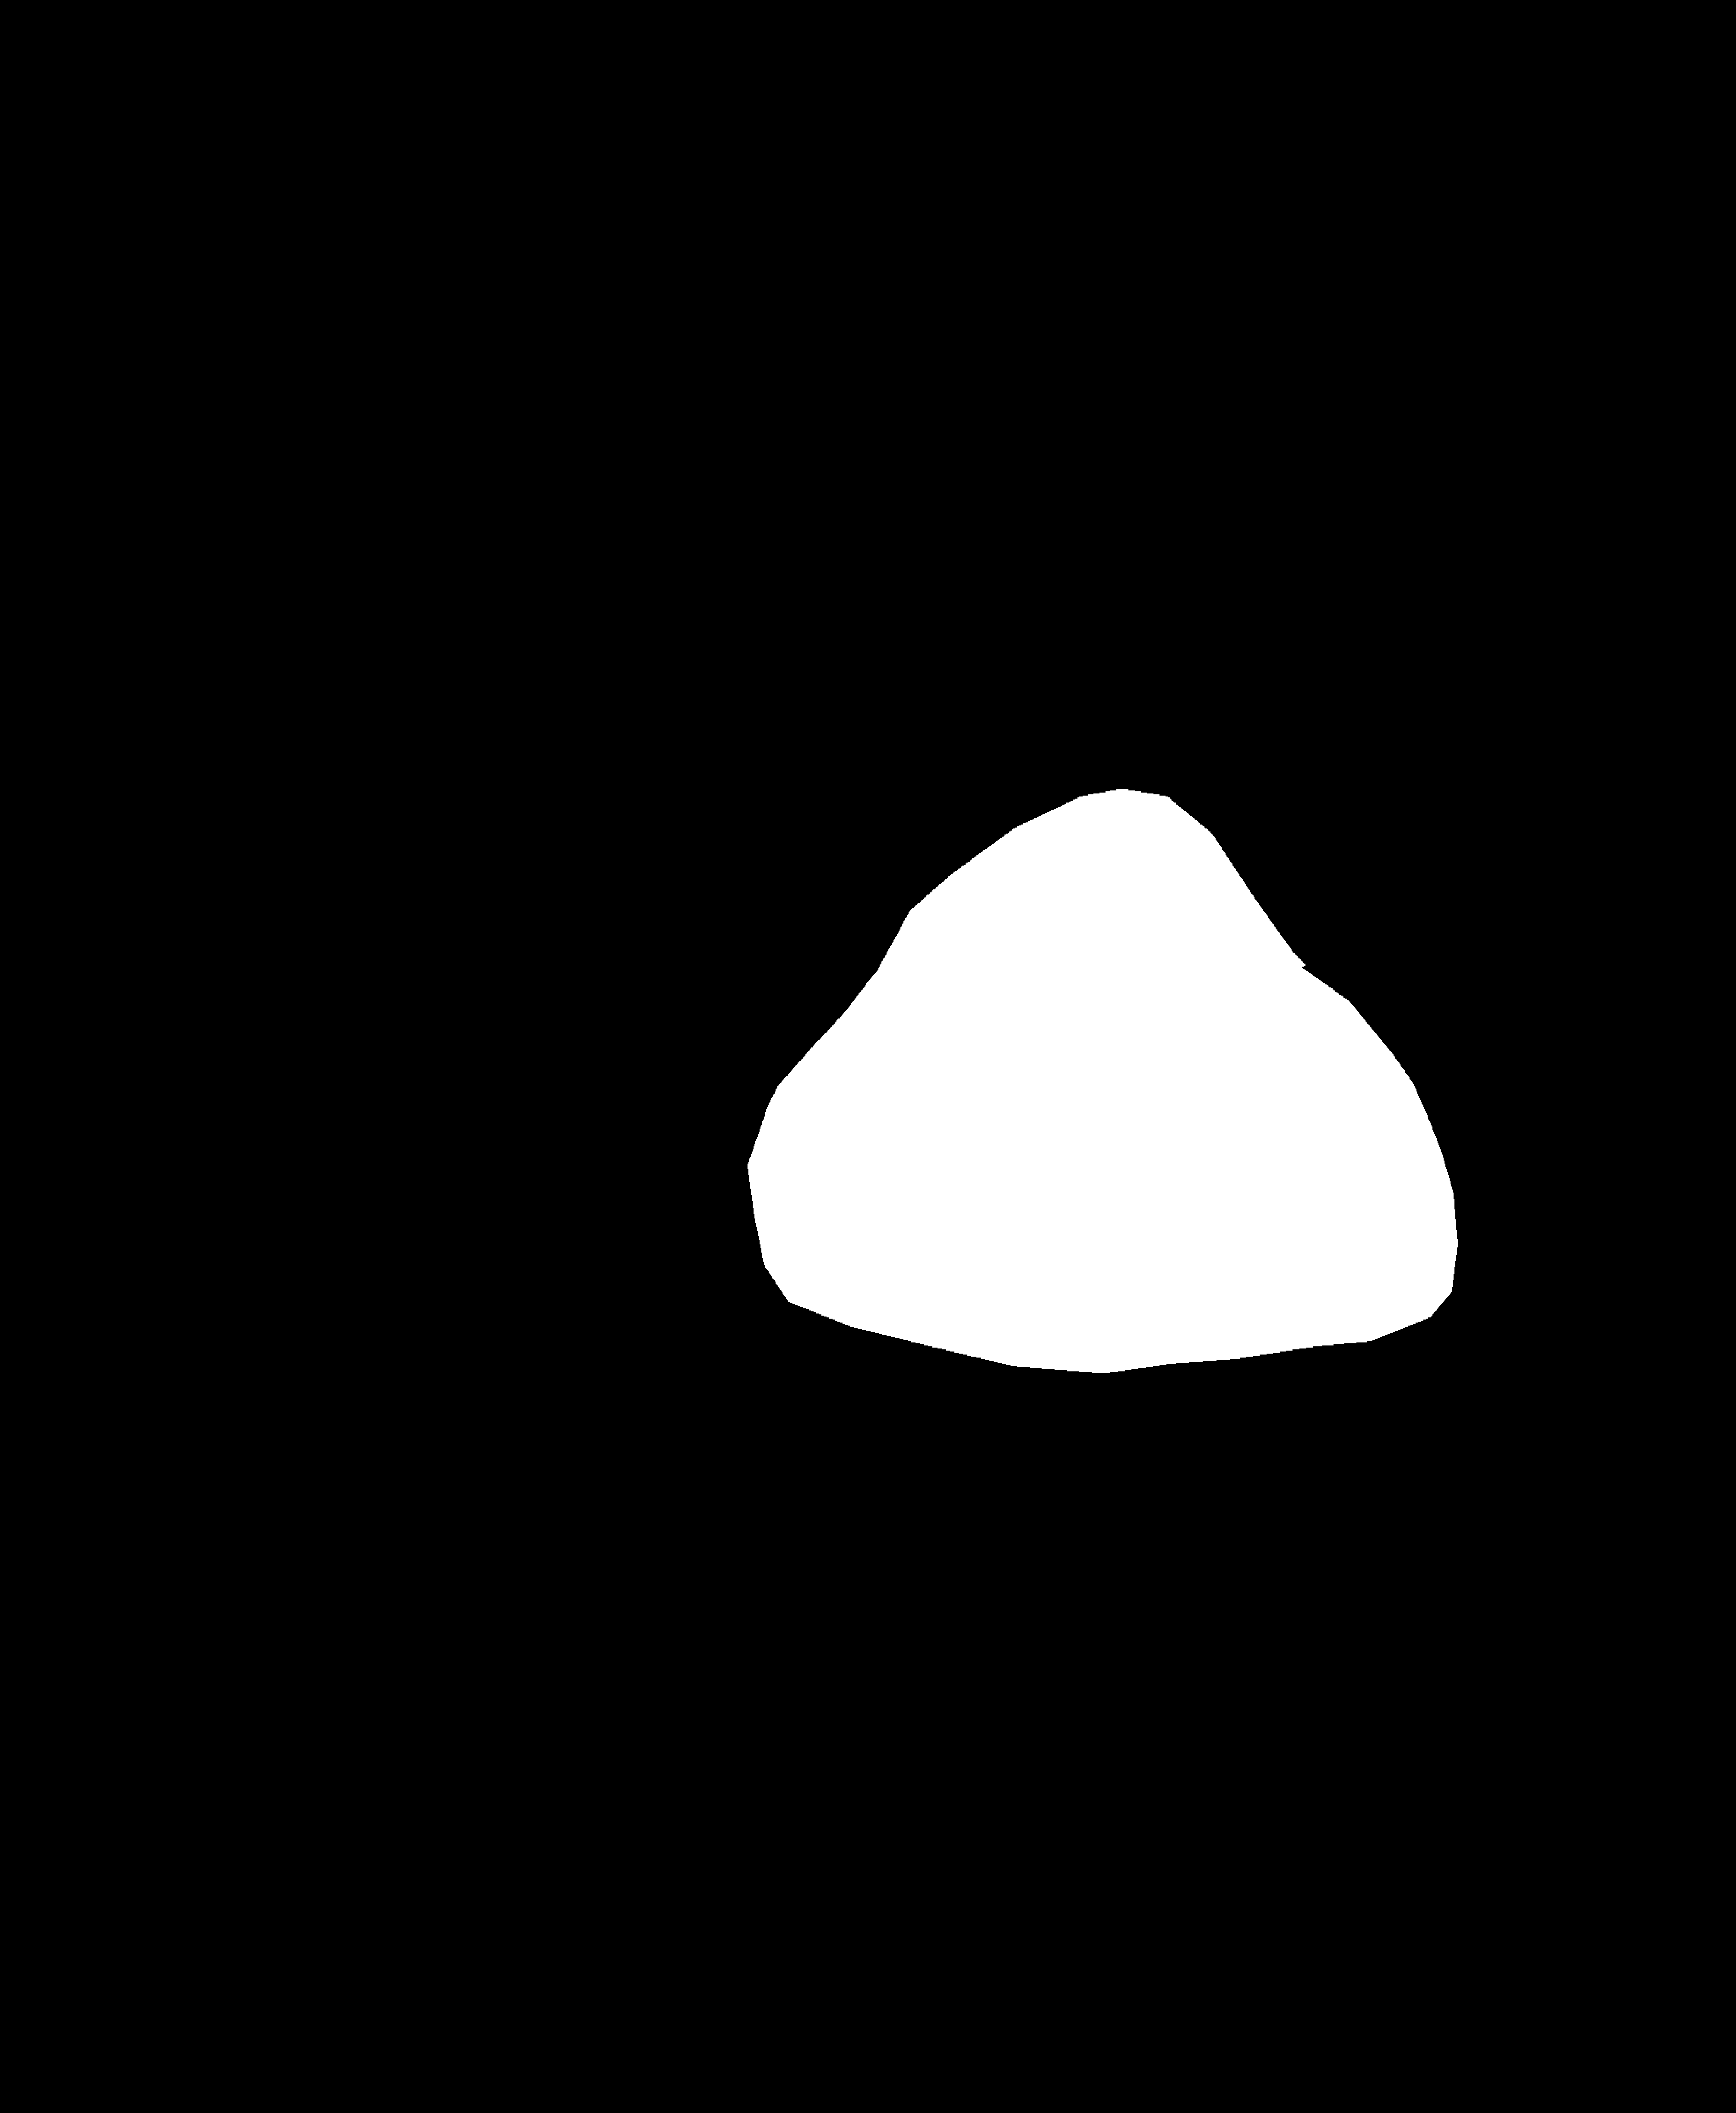heart: (755, 969, 1453, 1393)
left_lung: (197, 247, 950, 1551)
right_lung: (1083, 246, 1680, 1486)
